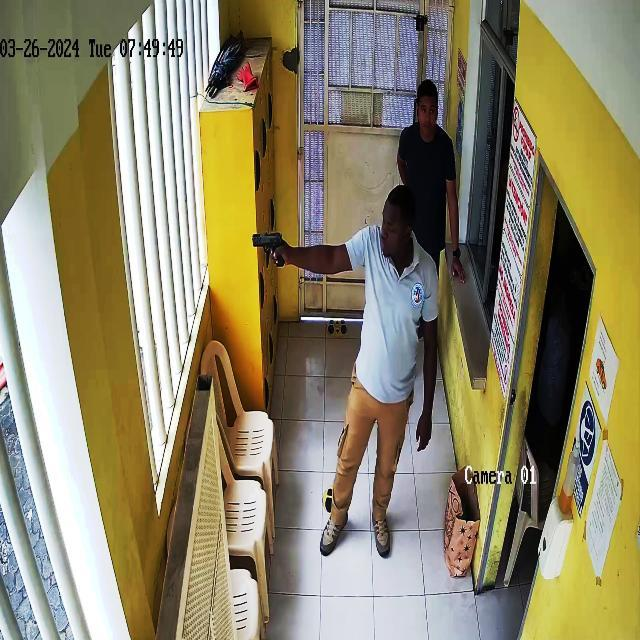Gun: (244, 228, 298, 274)
